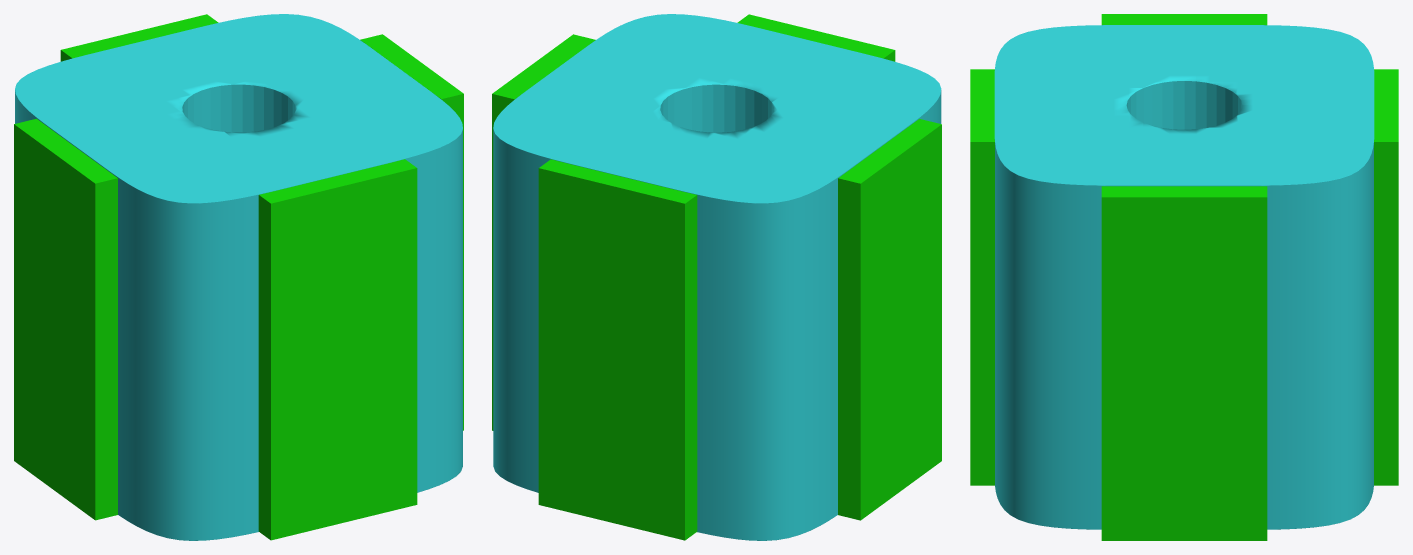
File: Button_Dissolve.fbx
The picture shows the model from 3 angles, left to right: view 1: azimuth 30°, elevation 25°; view 2: azimuth 150°, elevation 25°; view 3: azimuth 270°, elevation 25°; orthographic projection.
Visible parts, largest first — view 1: BUtton_Body, Button_Fin, Button_Fin.001; view 2: BUtton_Body, Button_Fin, Button_Fin.001; view 3: BUtton_Body, Button_Fin.001, Button_Fin.
Part boxes in pixels (<box>): BUtton_Body: <box>15,14,462,540</box>; Button_Fin: <box>60,14,417,540</box>; Button_Fin.001: <box>14,34,463,520</box>; BUtton_Body: <box>493,14,941,540</box>; Button_Fin: <box>538,14,895,540</box>; Button_Fin.001: <box>492,34,941,520</box>; BUtton_Body: <box>994,25,1374,529</box>; Button_Fin.001: <box>1101,14,1267,540</box>; Button_Fin: <box>970,69,1398,485</box>.
Bounding box in the file's own units: 524 × 458 × 517.
